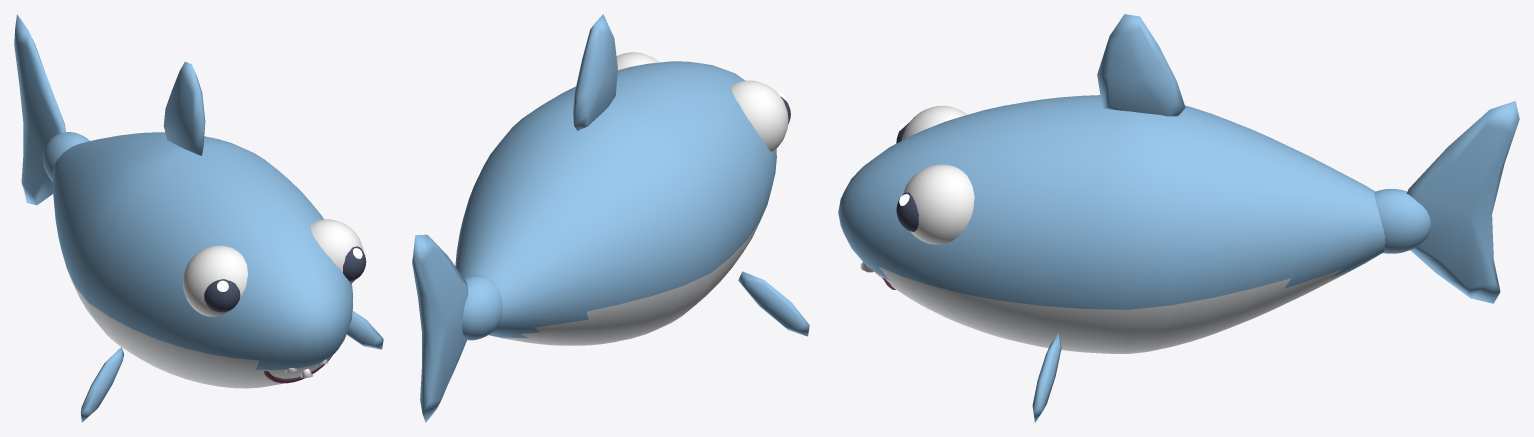
The model's file is shark.glb.
The picture shows the model from 3 angles, left to right: view 1: azimuth 30°, elevation 25°; view 2: azimuth 150°, elevation 25°; view 3: azimuth 270°, elevation 25°; orthographic projection. The views are drawn at different scales.
Parts seen in each view (by area): view 1: Body, TailFin, DorsalFin, EyeWhite1, EyeWhite0, PecFin-1, TailJoint, Pupil1, PecFin1, Pupil0; view 2: Body, TailFin, DorsalFin, EyeWhite1, TailJoint, PecFin-1, EyeWhite0; view 3: Body, TailFin, DorsalFin, EyeWhite0, TailJoint, PecFin1, EyeWhite1.
Boxes of the visible parts, <box> form: Body: <box>53,132,353,388</box>; TailFin: <box>14,14,65,205</box>; DorsalFin: <box>163,61,205,155</box>; EyeWhite1: <box>182,245,247,316</box>; EyeWhite0: <box>310,219,363,283</box>; PecFin-1: <box>80,347,123,422</box>; TailJoint: <box>43,132,89,181</box>; Pupil1: <box>204,279,240,312</box>; PecFin1: <box>346,311,383,349</box>; Pupil0: <box>343,246,366,281</box>; Body: <box>455,61,776,345</box>; TailFin: <box>412,234,468,422</box>; DorsalFin: <box>573,14,617,130</box>; EyeWhite1: <box>731,80,788,151</box>; TailJoint: <box>462,275,502,340</box>; PecFin-1: <box>738,271,809,336</box>; EyeWhite0: <box>616,52,659,69</box>; Body: <box>838,95,1385,353</box>; TailFin: <box>1406,101,1519,303</box>; DorsalFin: <box>1097,14,1185,116</box>; EyeWhite0: <box>903,164,974,244</box>; TailJoint: <box>1374,189,1431,253</box>; PecFin1: <box>1032,333,1061,422</box>; EyeWhite1: <box>902,106,967,140</box>.
Bounding box in the file's own units: 2.37 × 2.19 × 4.13.
